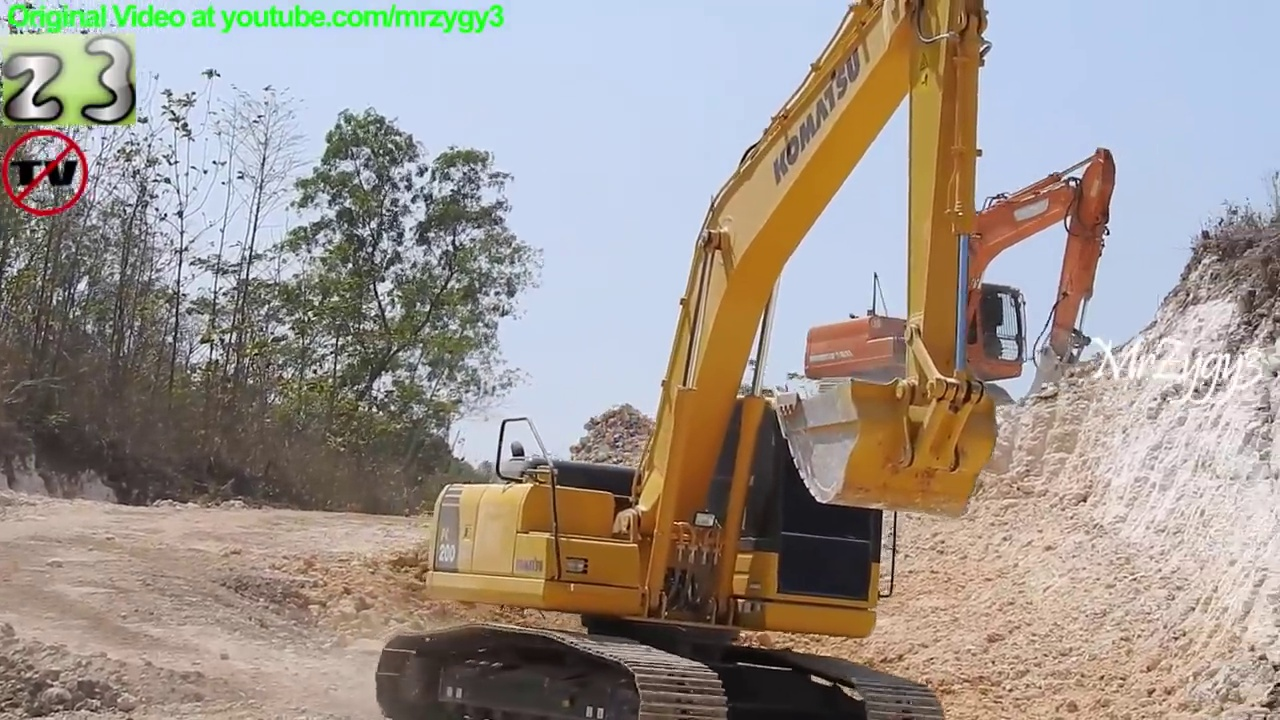excavator: (368, 1, 1005, 720), (802, 143, 1124, 430)
